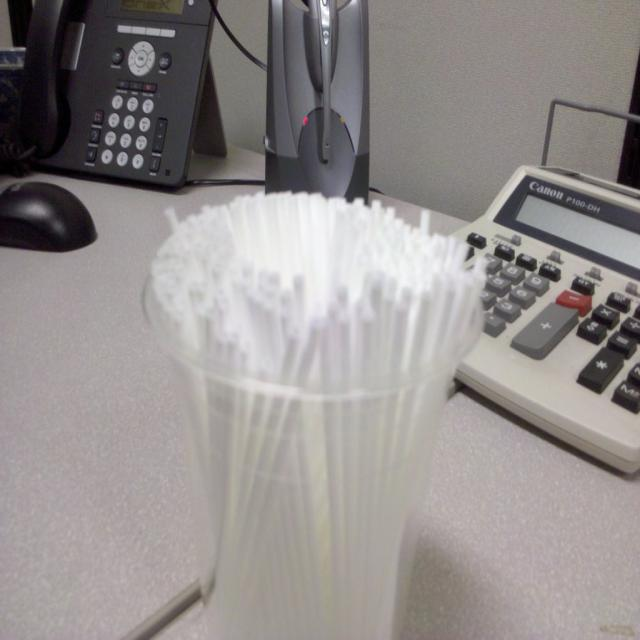Calculator: (437, 164, 640, 479)
